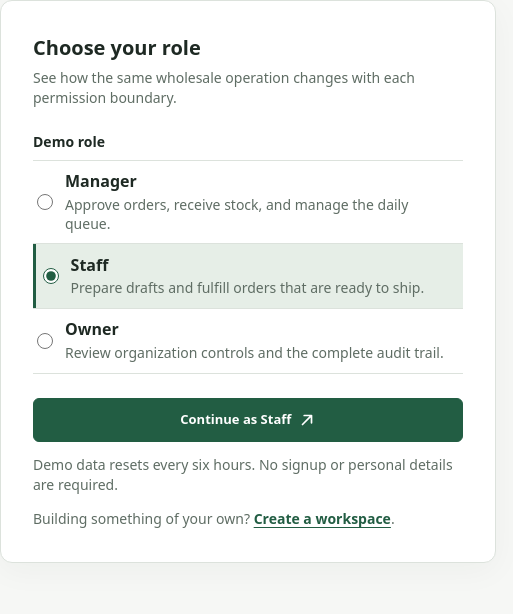
Test: DemoLoginCard › shows an actionable message when the demo session cannot start
Click the button "Continue as Staff" at (248, 420), box [33,398,463,442]
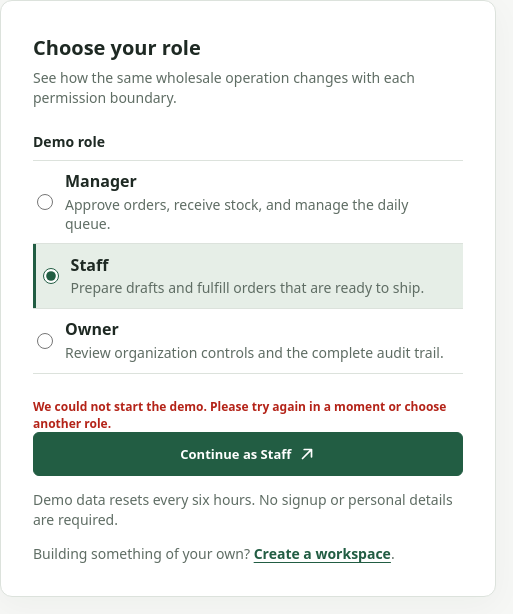
Check: the message shows "could not start the demo", box [33,398,446,432]
